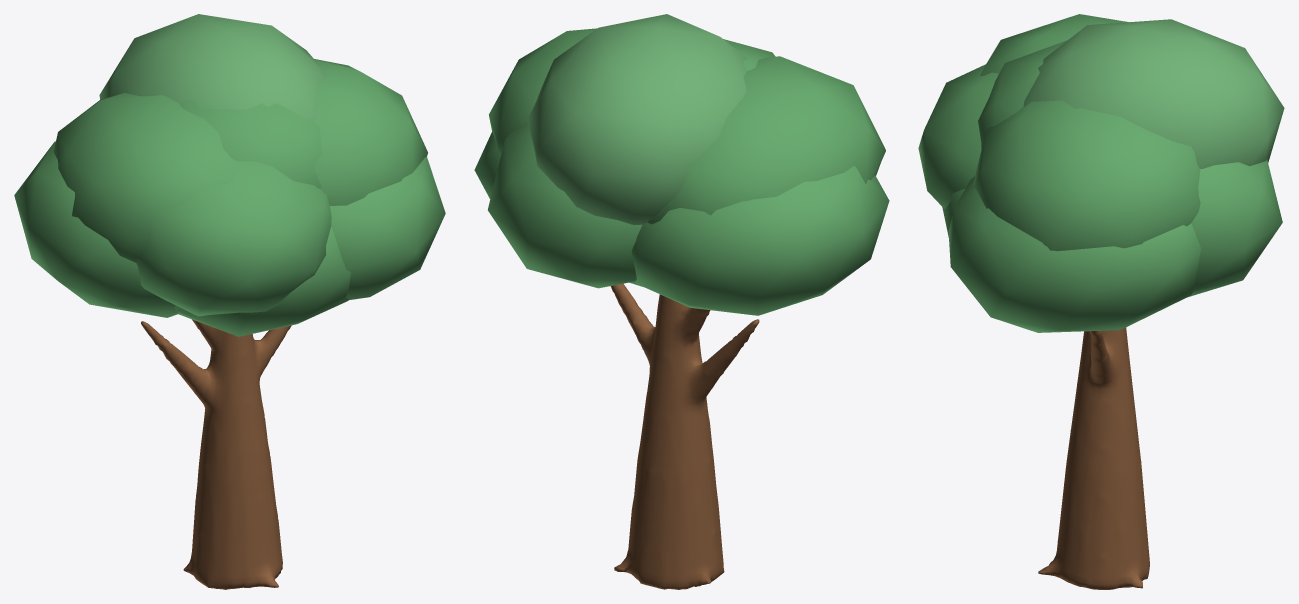
Rendered from NaturalTree_09_Mature.fbx.
The picture shows the model from 3 angles, left to right: view 1: azimuth 30°, elevation 25°; view 2: azimuth 150°, elevation 25°; view 3: azimuth 270°, elevation 25°; orthographic projection. The views are drawn at different scales.
Parts seen in each view (by area): view 1: Foliage_03.008, Trunk.008, Foliage_01.008, Foliage_08.001, Foliage_02.008, Foliage_05.008, Foliage_06.008, Foliage_00.008, Foliage_07.007; view 2: Foliage_08.001, Foliage_05.008, Trunk.008, Foliage_01.008, Foliage_04.008, Foliage_02.008, Foliage_06.008, Foliage_00.008; view 3: Foliage_02.008, Foliage_08.001, Foliage_06.008, Trunk.008, Foliage_04.008, Foliage_03.008, Foliage_00.008, Foliage_01.008.
Part boxes in pixels (box(x1,y1,x2,y2)): Foliage_03.008: box(136, 161, 331, 316); Trunk.008: box(141, 319, 291, 589); Foliage_01.008: box(53, 93, 236, 262); Foliage_08.001: box(99, 14, 326, 120); Foliage_02.008: box(313, 59, 427, 205); Foliage_05.008: box(14, 141, 179, 317); Foliage_06.008: box(330, 157, 445, 299); Foliage_00.008: box(180, 100, 321, 188); Foliage_07.007: box(174, 227, 350, 336); Foliage_08.001: box(527, 14, 747, 224); Foliage_05.008: box(631, 166, 889, 315); Trunk.008: box(610, 283, 759, 589); Foliage_01.008: box(647, 56, 885, 224); Foliage_04.008: box(488, 126, 642, 288); Foliage_02.008: box(489, 28, 596, 153); Foliage_06.008: box(474, 132, 501, 198); Foliage_00.008: box(723, 39, 775, 70); Foliage_02.008: box(973, 100, 1200, 251); Foliage_08.001: box(1023, 19, 1284, 168); Foliage_06.008: box(948, 176, 1201, 332); Trunk.008: box(1038, 327, 1149, 589); Foliage_04.008: box(1187, 159, 1282, 297); Foliage_03.008: box(918, 64, 998, 208); Foliage_00.008: box(978, 40, 1067, 148); Foliage_01.008: box(980, 14, 1128, 76).
Bounding box in the file's own units: 2.43 × 3.31 × 2.
